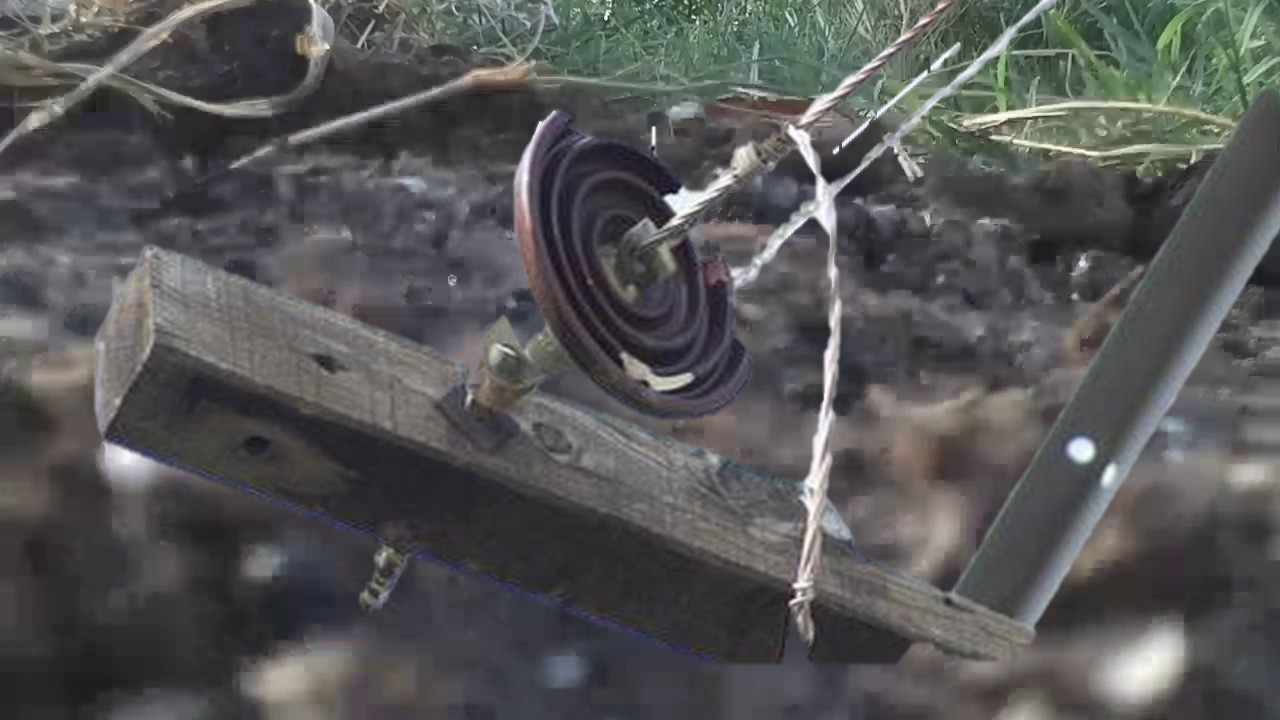defect_disc: (507, 98, 758, 423)
